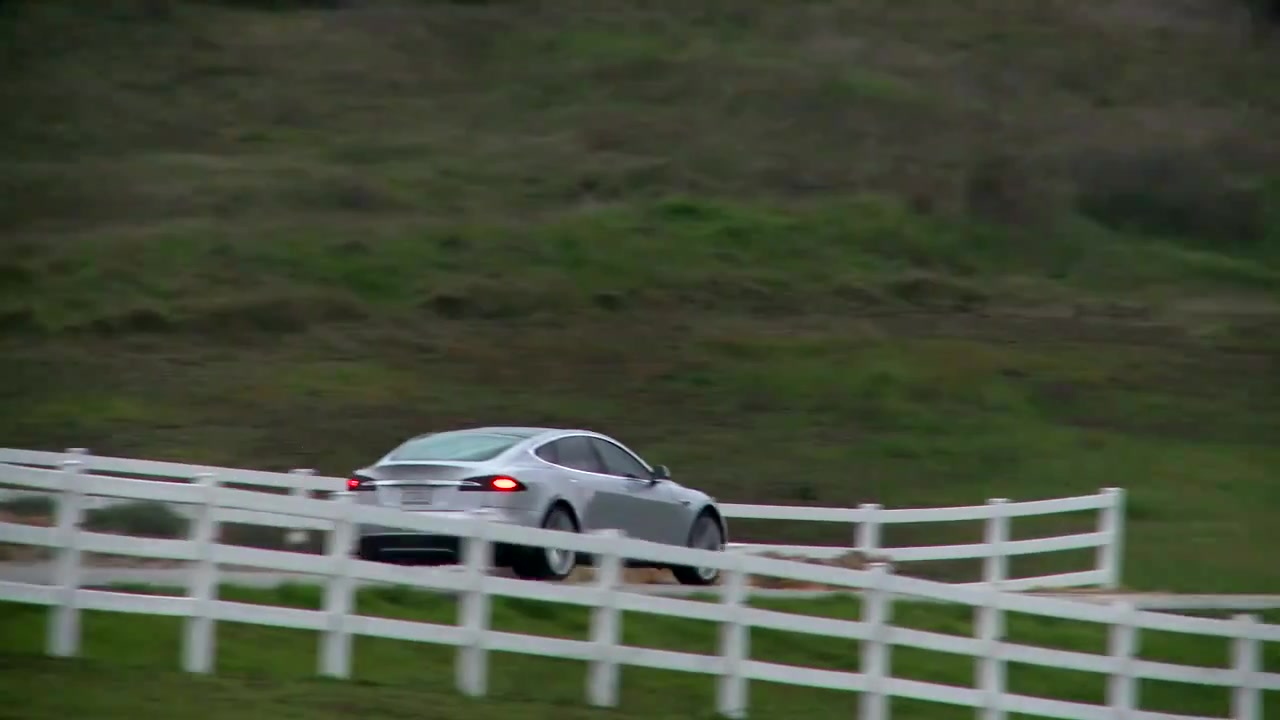car: (345, 426, 730, 589)
